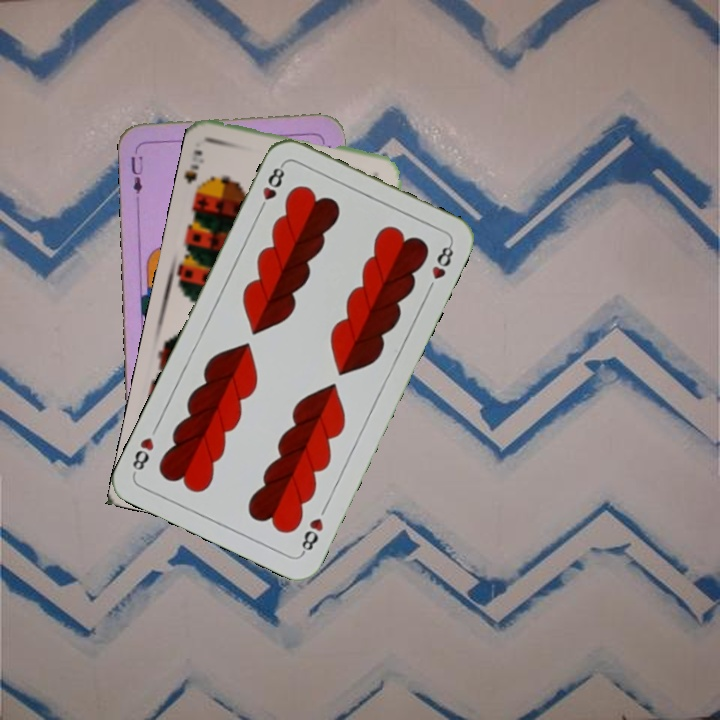EU: (127, 152, 146, 196)
H8: (255, 160, 288, 215), (297, 513, 326, 557)
S9: (182, 146, 210, 199)
